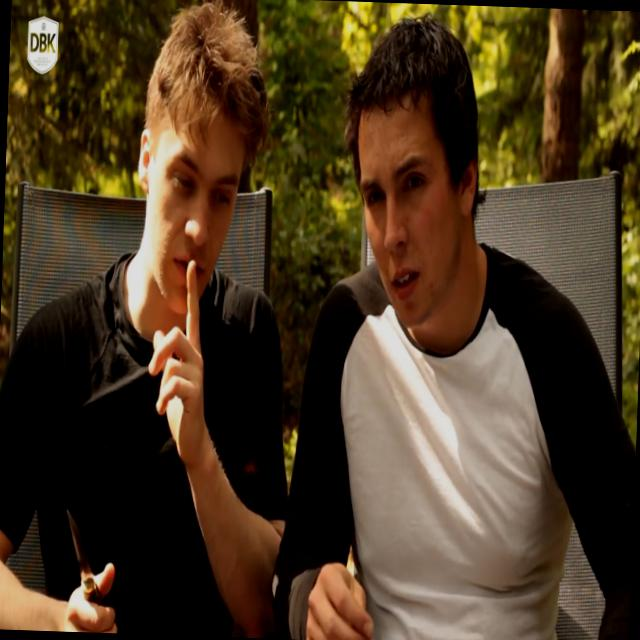knife: (52, 488, 123, 632)
